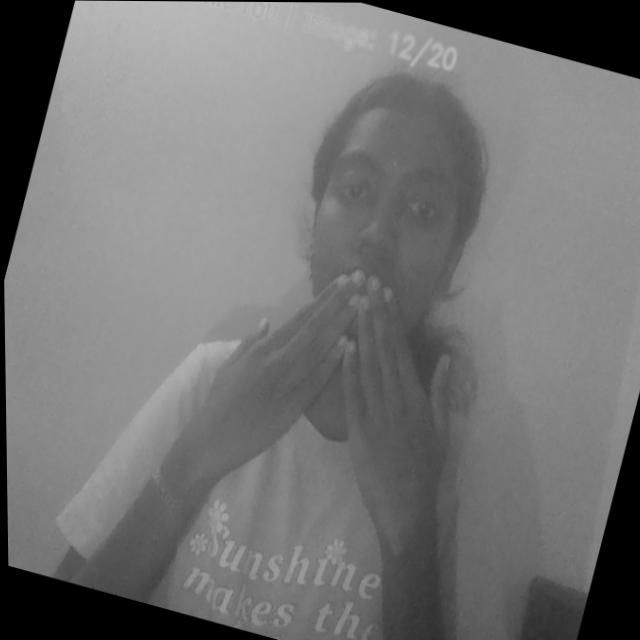Thank You: (153, 227, 510, 562)
